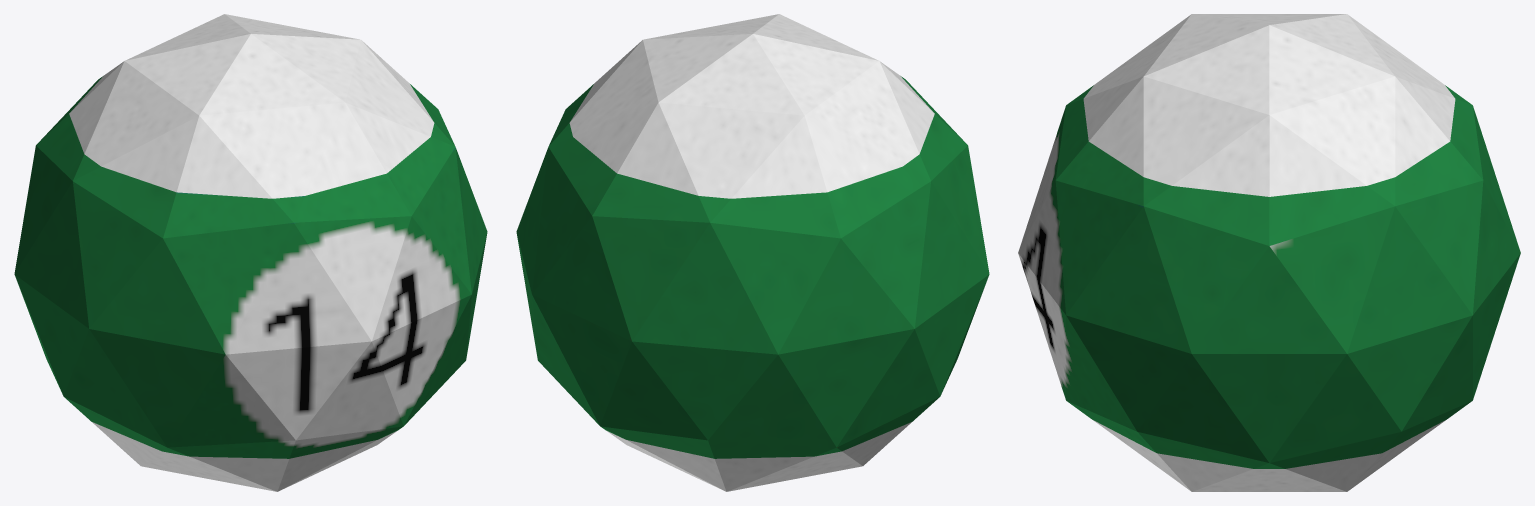
File: pool_ball_14.obj
3 views of the same model, side by side, from view 1: azimuth 30°, elevation 25°; view 2: azimuth 150°, elevation 25°; view 3: azimuth 270°, elevation 25° (orthographic). The views are drawn at different scales.
Parts seen in each view (by area): view 1: PoolBall_14; view 2: PoolBall_14; view 3: PoolBall_14.
Boxes of the visible parts, x1,y1,x2,y2 form: PoolBall_14: (14, 14, 487, 491); PoolBall_14: (516, 14, 989, 491); PoolBall_14: (1018, 14, 1520, 491).
Size of the model in its own units: 0.0709 by 0.0745 by 0.0745.
Materials: 1 (1 with a texture image).
